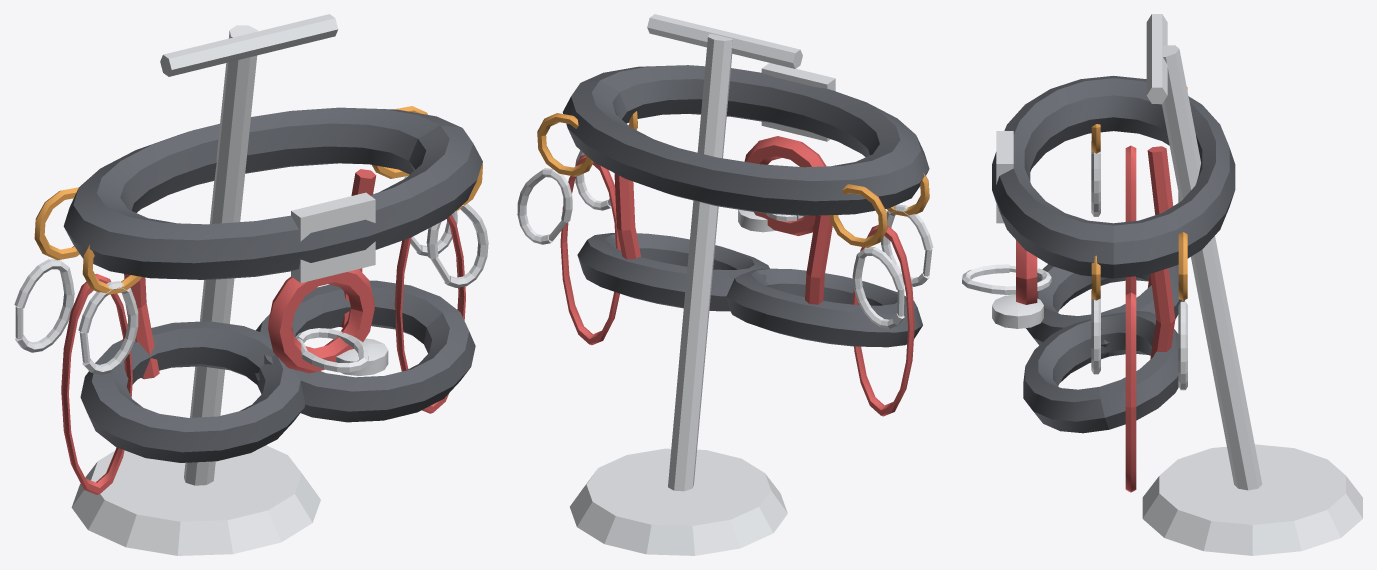
The model's file is mountaineering-and-summit-expedition-harness-with-rack-9ae95bd1__18815.glb.
The picture shows the model from 3 angles, left to right: view 1: azimuth 30°, elevation 25°; view 2: azimuth 150°, elevation 25°; view 3: azimuth 270°, elevation 25°; orthographic projection. The views are drawn at different scales.
Parts seen in each view (by area): view 1: harness-with-rack; view 2: harness-with-rack; view 3: harness-with-rack.
Boxes of the visible parts, x1=… form: harness-with-rack: x1=14, y1=14, x2=488, y2=555; harness-with-rack: x1=517, y1=14, x2=933, y2=555; harness-with-rack: x1=962, y1=14, x2=1362, y2=555.
Bounding box in the file's own units: 0.5289 × 0.5854 × 0.4611.
